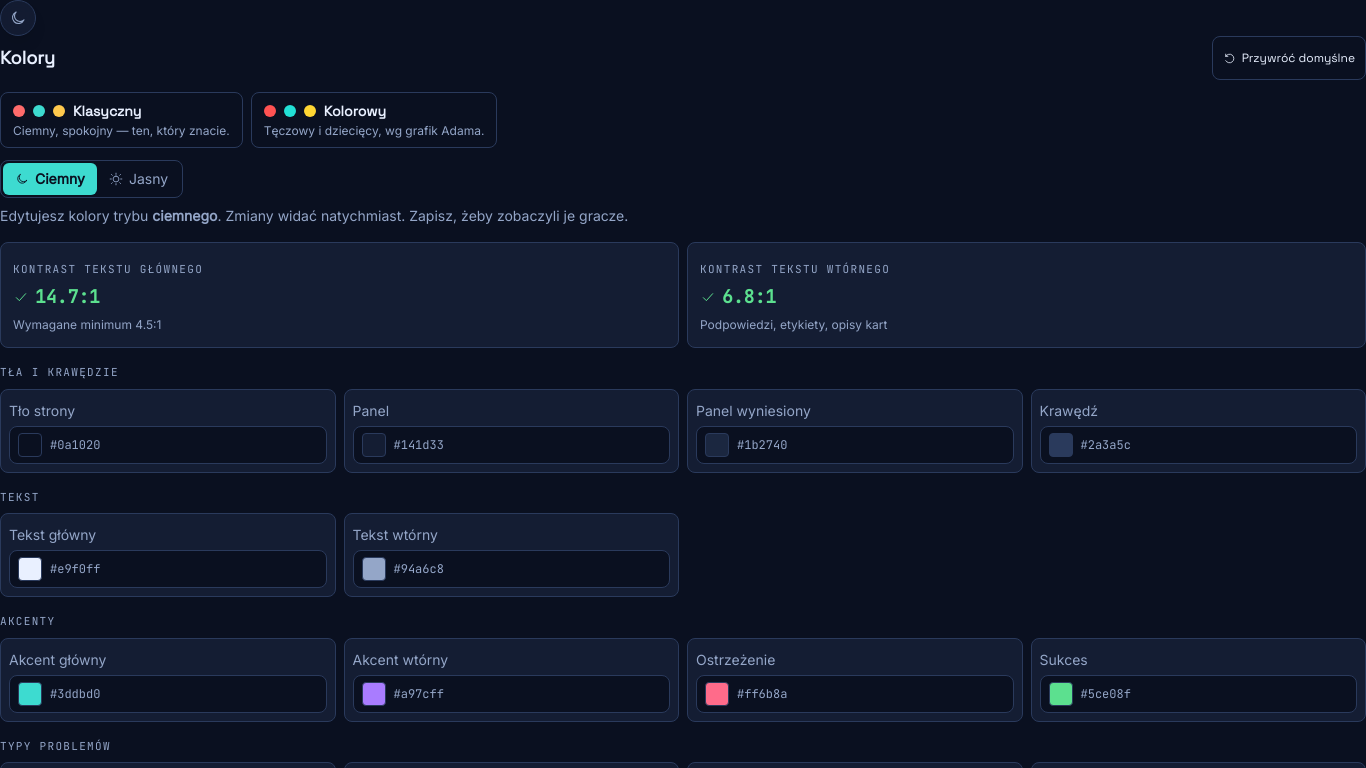
Scenario: ThemeEditor › aktualizuje opis trybu, gdy stronę przełączy toggle w nagłówku panelu
Expected: the text "Zmiany widać natychmiast" is shown, [226,207,405,224]
Klik w przełącznik w nagłówku panelu — nie w samym ThemeEditorze.
What coordinates should you click on to do the following:
click the button named "Włącz tryb jasny"
I would click on:
 (18, 18)
Its box is [0,0,36,36].
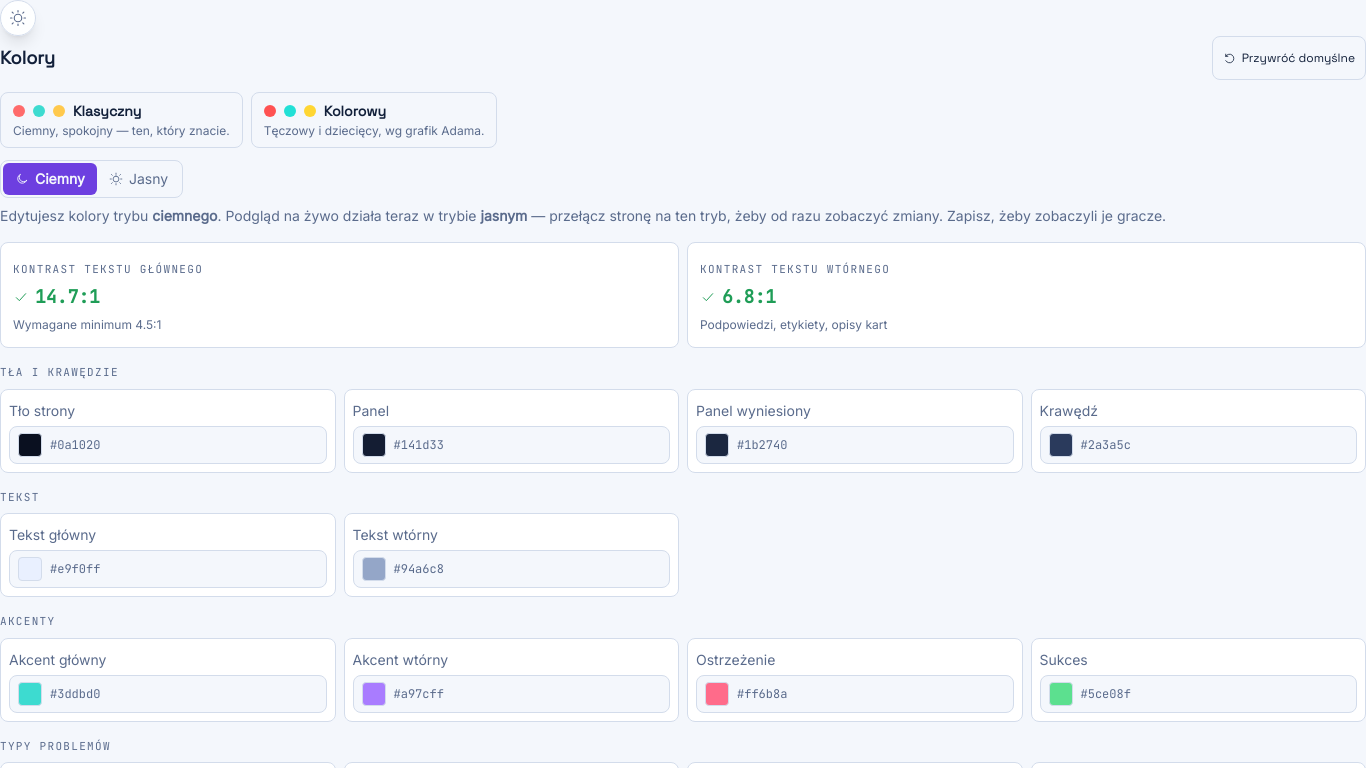
Expected: the text "Zmiany widać natychmiast" is gone
Expected: the text "Podgląd na żywo działa teraz w trybie" is shown, [226,207,477,224]
